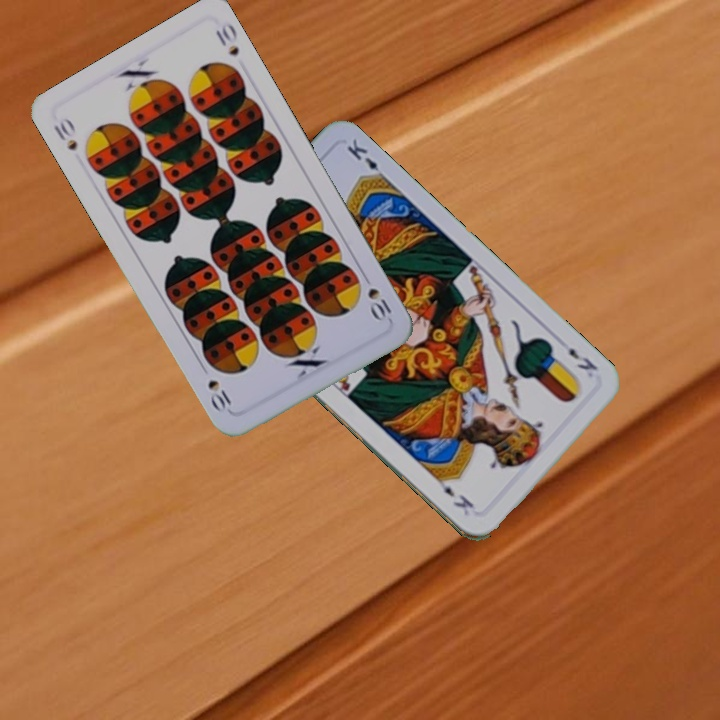EK: (564, 343, 601, 374)
S10: (358, 269, 398, 324), (49, 113, 80, 154)
